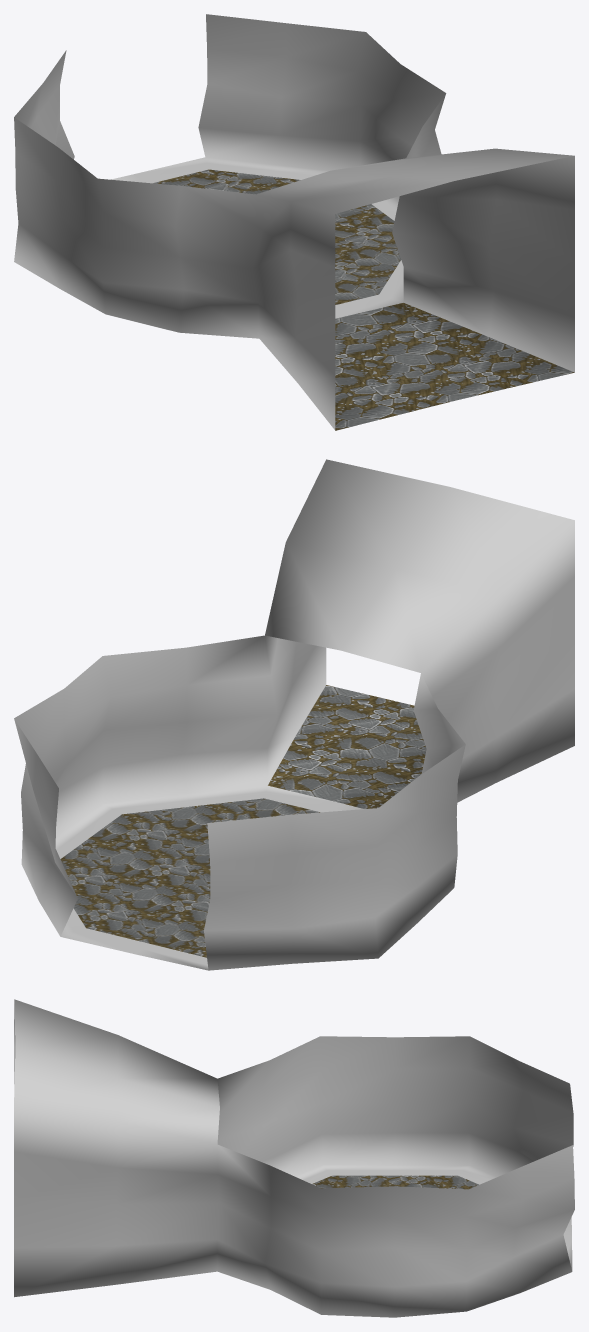
Rendered from Level 1 bottom floor leading.fbx.
3 views of the same model, one above another, from view 1: azimuth 30°, elevation 25°; view 2: azimuth 150°, elevation 25°; view 3: azimuth 270°, elevation 25° (orthographic). The views are drawn at different scales.
Parts seen in each view (by area): view 1: N Cistern Room; view 2: N Cistern Room; view 3: N Cistern Room.
Part boxes in pixels (<box>): N Cistern Room: <box>14,14,574,430</box>; N Cistern Room: <box>14,459,574,970</box>; N Cistern Room: <box>14,999,574,1317</box>.
Bounding box in the file's own units: 2895 × 1721 × 4410.
